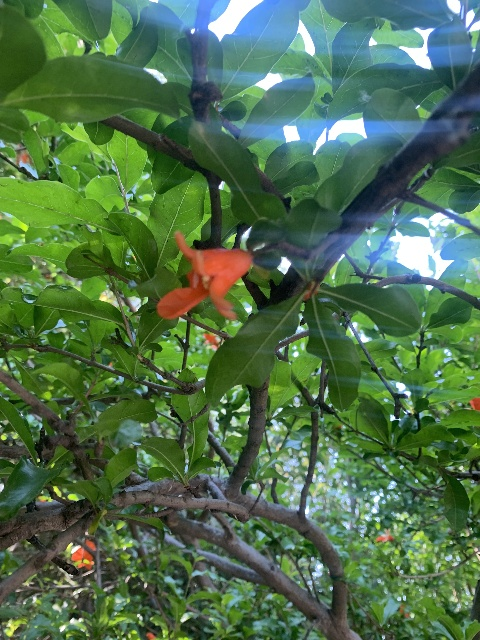flower: (156, 229, 253, 320), (71, 539, 95, 570), (203, 333, 219, 347)
